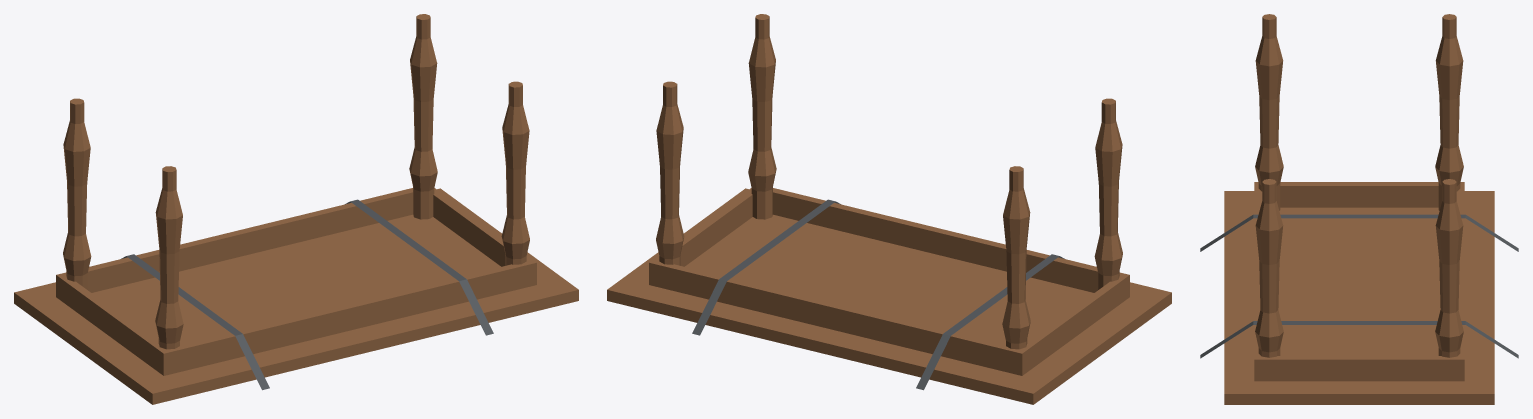
Rendered from dining-table.glb.
3 renders of one model, left to right at view 1: azimuth 30°, elevation 25°; view 2: azimuth 150°, elevation 25°; view 3: azimuth 270°, elevation 25°, orthographic. The views are drawn at different scales.
Visible parts, largest first — view 1: DiningTable; view 2: DiningTable; view 3: DiningTable.
Boxes of the visible parts, box(x1,y1,x2,y2) form: DiningTable: box(14, 14, 578, 404); DiningTable: box(607, 14, 1171, 404); DiningTable: box(1200, 14, 1518, 404).
Size of the model in its own units: 1.6 by 0.75 by 1.06.
